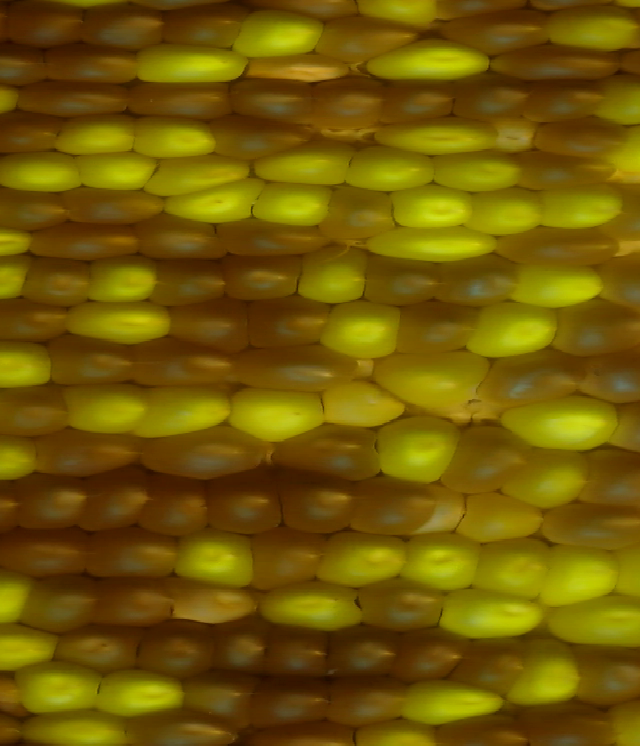fluorescent: (369, 412, 467, 487), (378, 348, 489, 412), (490, 396, 621, 448), (436, 590, 560, 641), (222, 387, 327, 441), (139, 381, 235, 440), (367, 116, 505, 157), (169, 527, 258, 590), (469, 297, 568, 353), (363, 223, 500, 262), (317, 297, 401, 360), (544, 591, 640, 646), (132, 40, 249, 85), (370, 40, 493, 82), (257, 140, 356, 192), (260, 580, 367, 628), (59, 378, 151, 433), (69, 296, 172, 344), (16, 659, 102, 716), (477, 533, 549, 601), (323, 529, 409, 585), (544, 4, 640, 54), (233, 6, 327, 57), (14, 703, 123, 746), (402, 534, 488, 588), (462, 487, 546, 541), (547, 540, 618, 603), (131, 112, 222, 160), (433, 146, 522, 195), (504, 453, 586, 506), (294, 246, 367, 304), (167, 177, 260, 222), (517, 638, 580, 704), (94, 670, 184, 716), (537, 185, 627, 230), (385, 183, 477, 227), (0, 148, 86, 195), (398, 678, 499, 718), (325, 382, 410, 429), (346, 146, 435, 190), (56, 112, 139, 159), (515, 262, 601, 307), (83, 256, 164, 303), (462, 186, 543, 232), (253, 178, 333, 224), (72, 149, 159, 191), (147, 159, 249, 192), (0, 620, 63, 672), (0, 335, 54, 388), (0, 427, 41, 485), (596, 72, 640, 125), (0, 570, 35, 625), (610, 122, 640, 174), (0, 254, 31, 303), (0, 222, 37, 260)
nonfluorescent: (264, 425, 384, 483), (142, 427, 277, 478), (205, 469, 289, 541), (33, 428, 152, 477), (477, 350, 581, 406), (351, 476, 442, 540), (81, 527, 188, 581), (277, 470, 360, 538), (127, 333, 233, 386), (28, 219, 147, 266), (357, 578, 447, 639), (443, 424, 526, 490), (552, 293, 640, 355), (493, 41, 621, 83), (495, 225, 621, 267), (441, 7, 552, 54), (141, 617, 221, 680), (121, 75, 238, 118), (164, 298, 254, 353), (142, 470, 212, 540), (216, 213, 327, 257), (73, 3, 165, 55), (230, 72, 315, 128), (121, 708, 245, 746), (43, 38, 141, 86), (526, 697, 622, 746), (360, 254, 446, 308), (59, 185, 164, 229), (546, 501, 640, 550), (0, 530, 91, 580), (206, 114, 314, 156), (15, 474, 93, 532), (249, 671, 336, 723), (0, 383, 74, 444), (131, 213, 227, 260), (248, 528, 323, 588), (54, 624, 142, 675), (569, 640, 640, 703), (448, 75, 537, 125), (328, 625, 405, 682), (518, 141, 612, 187), (21, 575, 101, 629), (96, 576, 175, 629), (317, 14, 410, 59), (18, 257, 98, 309), (21, 80, 127, 119), (2, 2, 89, 49), (437, 254, 518, 304), (398, 628, 469, 685), (163, 3, 248, 49), (583, 441, 640, 509), (325, 185, 398, 238), (81, 472, 147, 530), (181, 666, 253, 719), (527, 78, 604, 127), (454, 644, 526, 695), (310, 80, 384, 129), (268, 627, 336, 680), (217, 613, 278, 672), (531, 117, 630, 153), (326, 675, 405, 720), (0, 185, 72, 233), (437, 712, 532, 746), (578, 350, 640, 402), (251, 53, 351, 85), (0, 109, 64, 157), (246, 719, 357, 746), (381, 80, 457, 119), (0, 39, 49, 90), (602, 254, 640, 316), (607, 183, 640, 243), (0, 475, 31, 535)
